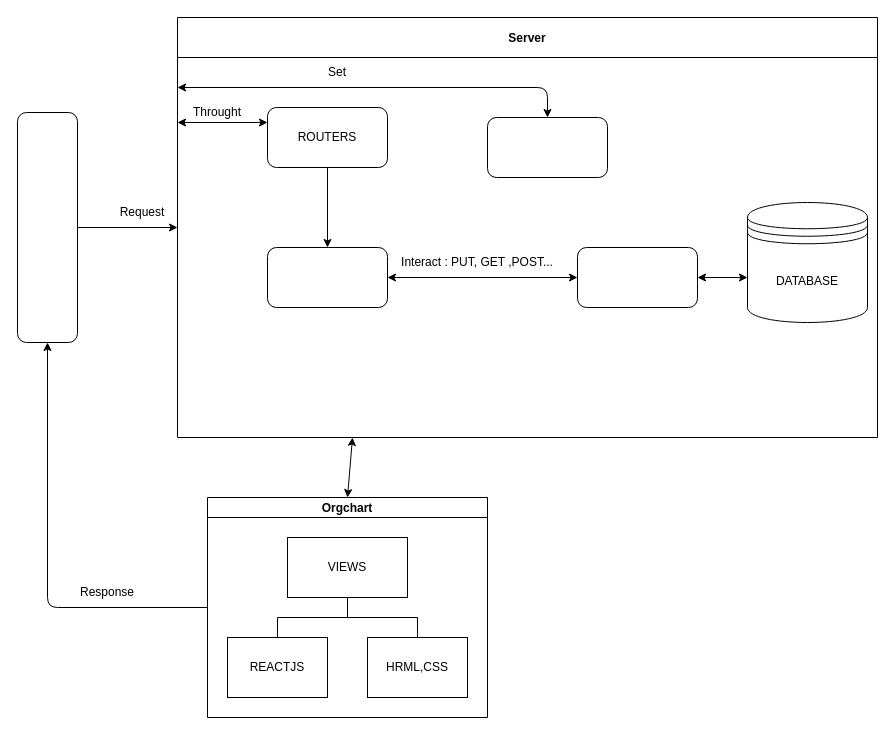
This 895x735 diagram has some shape labels left out. The shapes that lost their labels are listed below. From the top down, each one's box as (x1, y1, x2, y2) in pixels, then its label:
(486, 116, 608, 178): CONFIG
(16, 112, 78, 342): USER
(266, 246, 388, 308): CONTROLER
(576, 246, 698, 308): MODEL
